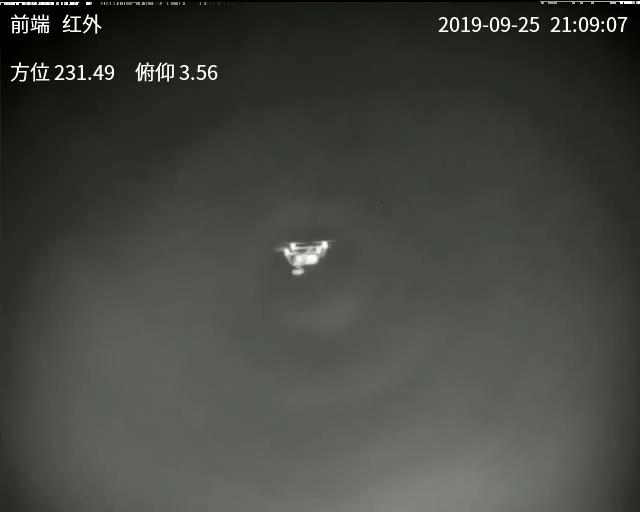uav: (276, 236, 330, 277)
